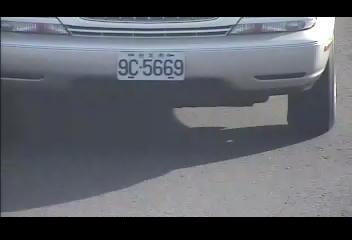plate: (114, 49, 185, 83)
